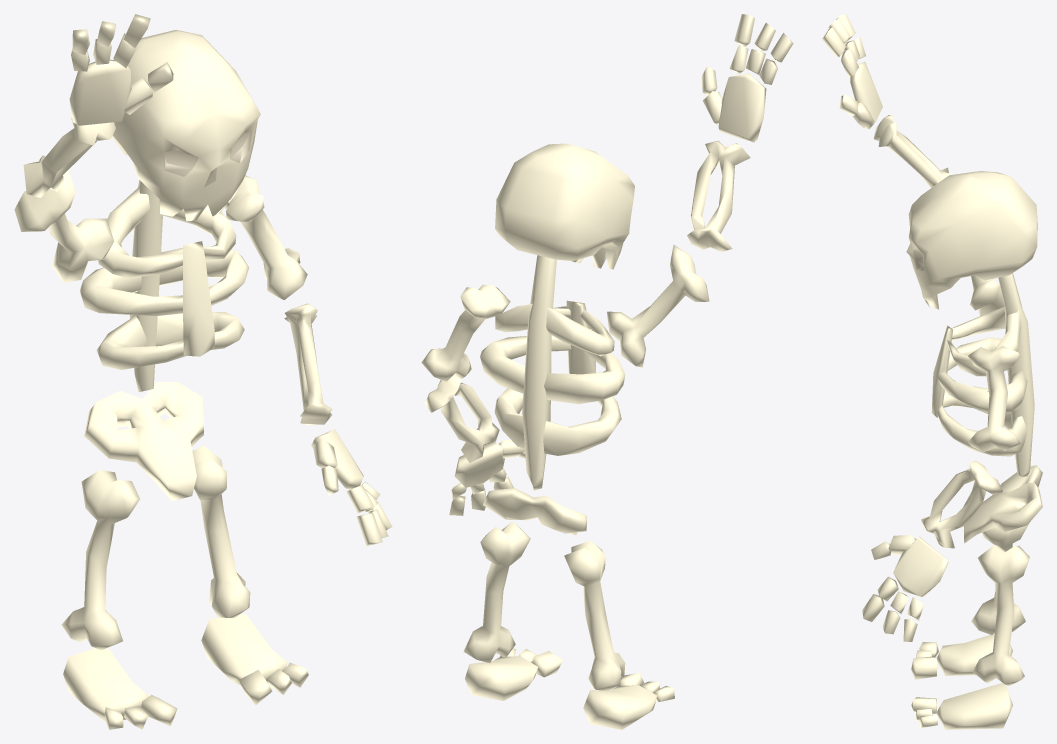
File: Skellie01.glb
The picture shows the model from 3 angles, left to right: view 1: azimuth 30°, elevation 25°; view 2: azimuth 150°, elevation 25°; view 3: azimuth 270°, elevation 25°; orthographic projection. The views are drawn at different scales.
Visible parts, largest first — view 1: Skellie01; view 2: Skellie01; view 3: Skellie01.
Part boxes in pixels (left/top/right/bottom): Skellie01: left=14, top=14, right=392, bottom=729; Skellie01: left=421, top=14, right=793, bottom=729; Skellie01: left=822, top=14, right=1042, bottom=729.
Size of what is drawn, in the model's own units: 0.9267 by 1.91 by 0.6175.
Materials: 1 (1 with a texture image).
